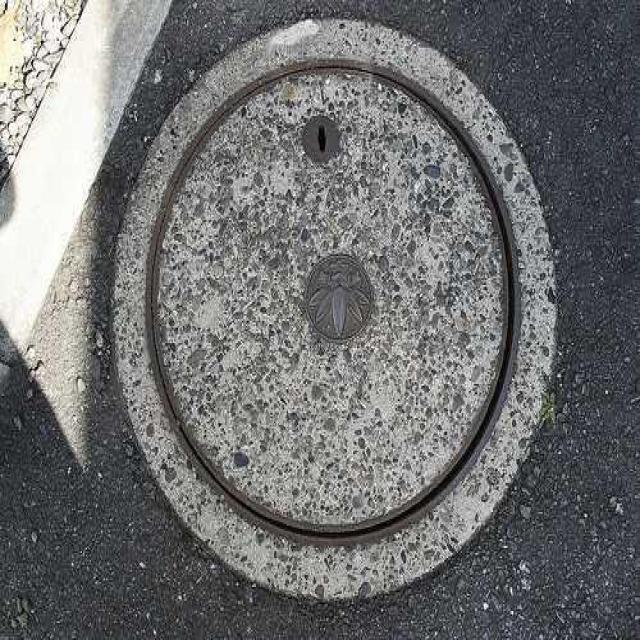manhole: (115, 20, 555, 599)
